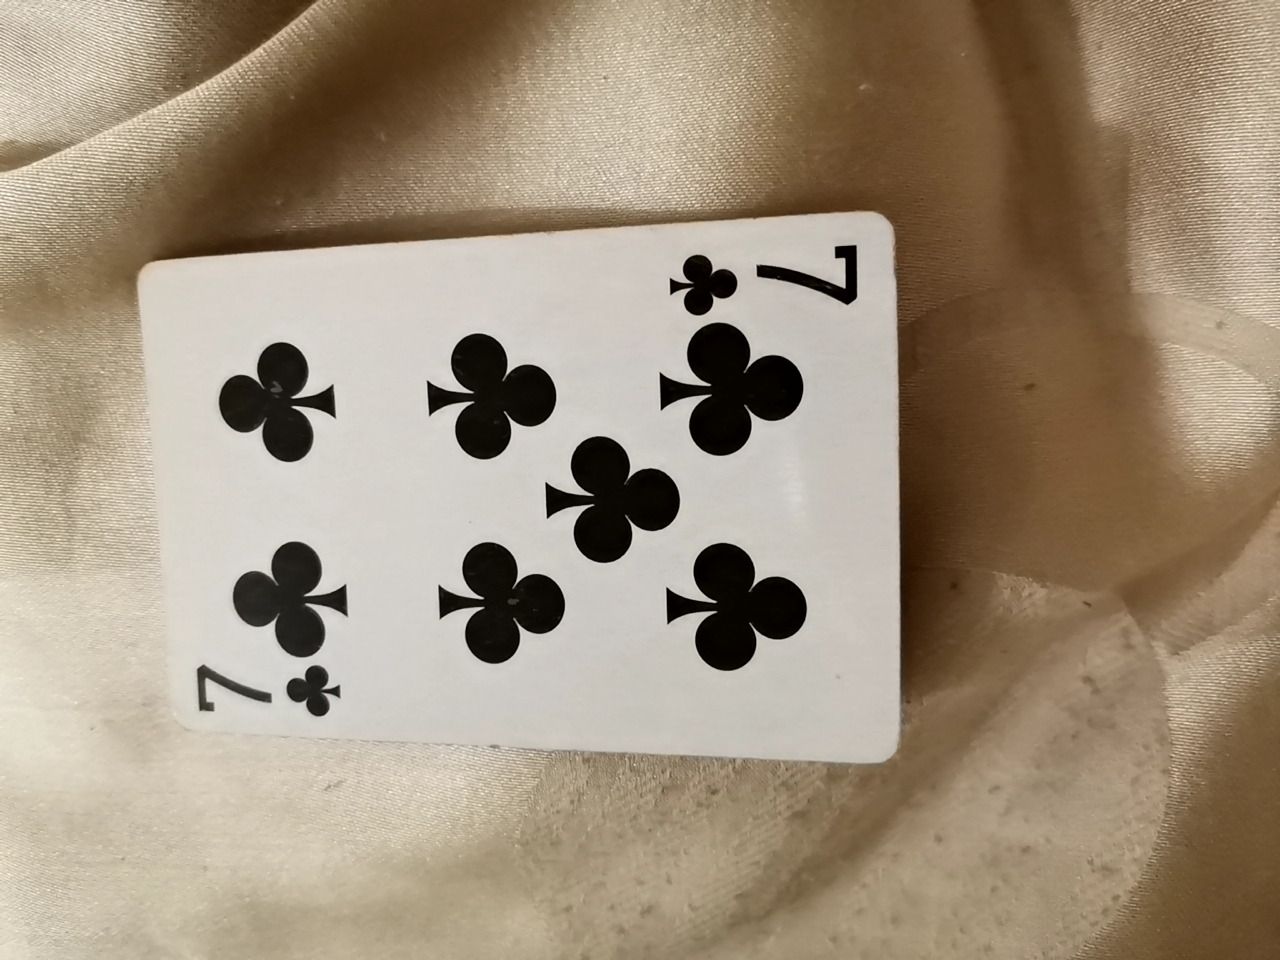mh 7: (114, 209, 921, 783)
